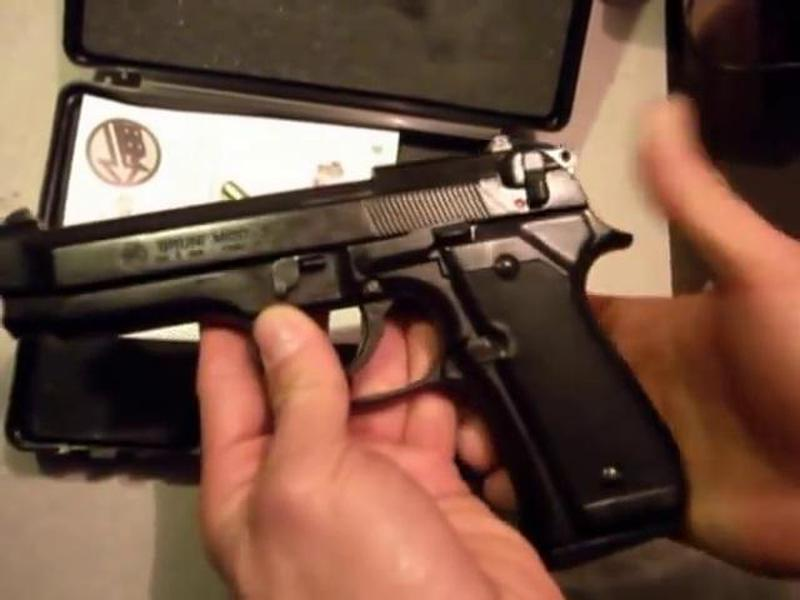Pistola: (16, 120, 659, 563)
